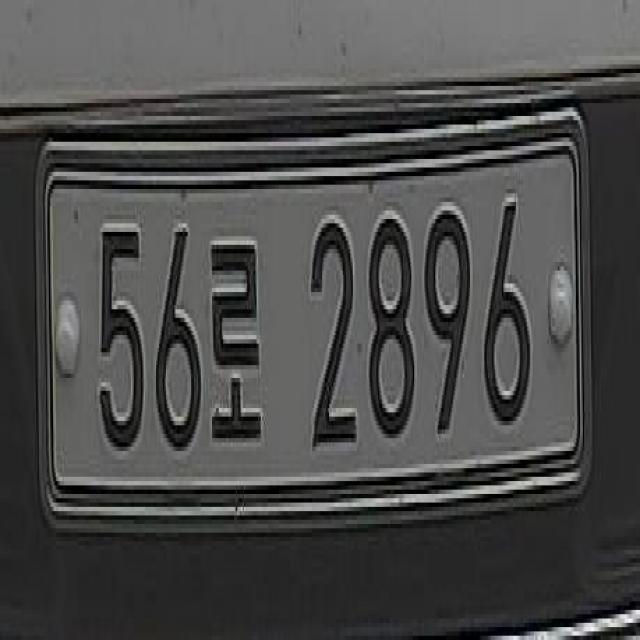illegal_plate: (38, 114, 598, 535)
